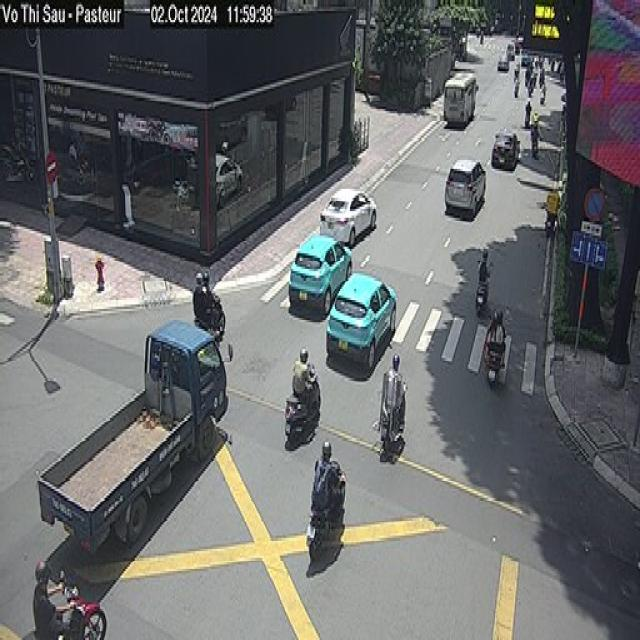bus: (442, 71, 478, 127)
car: (325, 271, 396, 369), (288, 229, 352, 318), (319, 186, 376, 246), (444, 158, 486, 218), (491, 129, 520, 169)
person: (305, 438, 346, 562), (33, 558, 75, 638)
truck: (28, 318, 240, 556)
